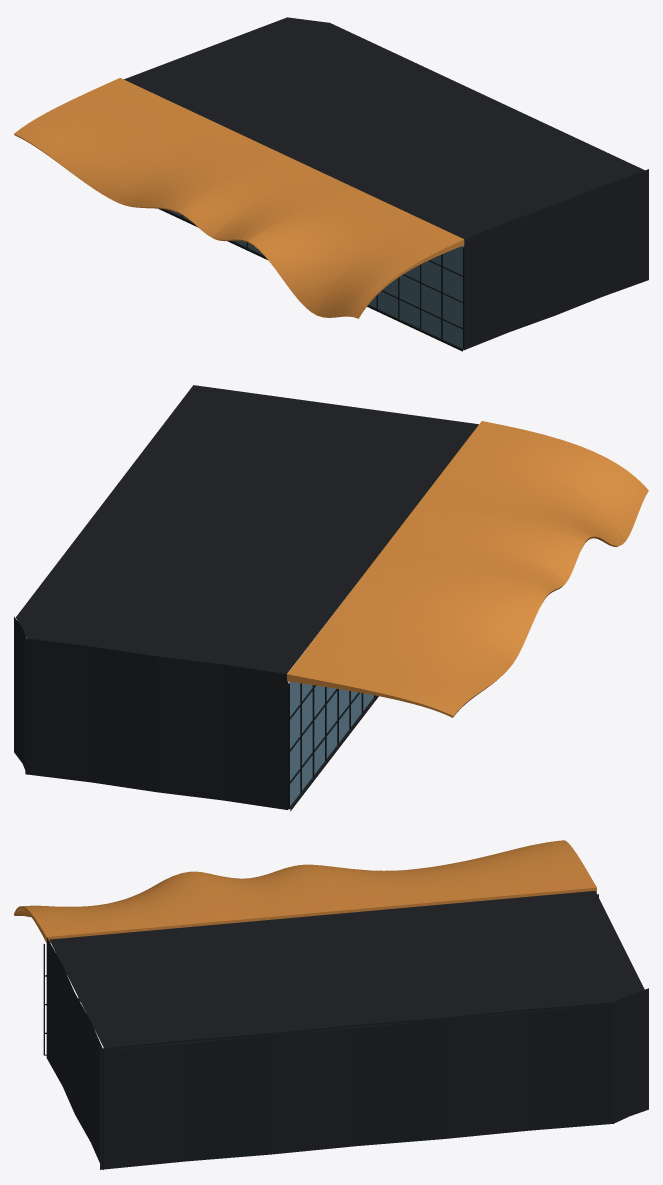
File: kilden-performing-arts-centre-far.glb
The picture shows the model from 3 angles, top to bottom: view 1: azimuth 30°, elevation 25°; view 2: azimuth 150°, elevation 25°; view 3: azimuth 270°, elevation 25°; orthographic projection. The views are drawn at different scales.
Visible parts, largest first — view 1: kilden-performing-arts-centre-0-metal, kilden-performing-arts-centre-0-oak, kilden-performing-arts-centre-0-glow, kilden-performing-arts-centre-0-frame; view 2: kilden-performing-arts-centre-0-metal, kilden-performing-arts-centre-0-oak, kilden-performing-arts-centre-0-glow, kilden-performing-arts-centre-0-frame; view 3: kilden-performing-arts-centre-0-metal, kilden-performing-arts-centre-0-oak.
Boxes of the visible parts, box(x1,y1,x2,y2) form: kilden-performing-arts-centre-0-metal: box(124, 17, 648, 351); kilden-performing-arts-centre-0-oak: box(14, 78, 464, 318); kilden-performing-arts-centre-0-glow: box(168, 210, 463, 348); kilden-performing-arts-centre-0-frame: box(181, 215, 464, 349); kilden-performing-arts-centre-0-metal: box(14, 385, 478, 811); kilden-performing-arts-centre-0-oak: box(287, 421, 648, 717); kilden-performing-arts-centre-0-glow: box(288, 681, 373, 805); kilden-performing-arts-centre-0-frame: box(288, 683, 375, 809); kilden-performing-arts-centre-0-metal: box(45, 891, 648, 1170); kilden-performing-arts-centre-0-oak: box(14, 840, 596, 942).
Size of the model in its own units: 87.97 by 22 by 104.
